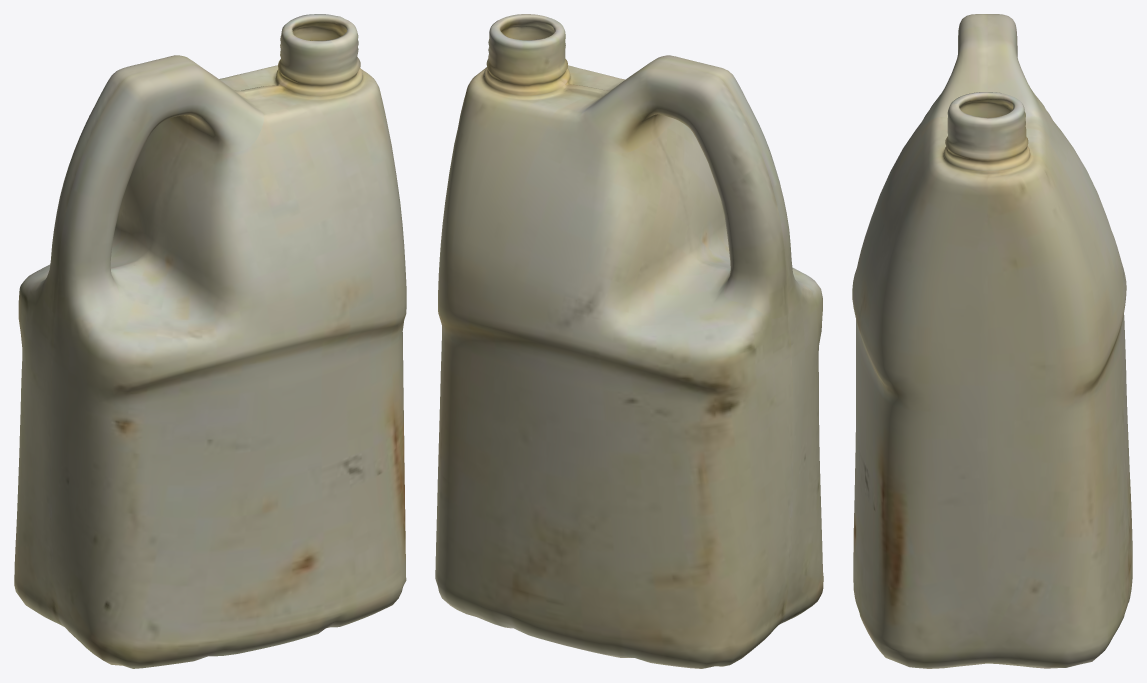
3 renders of one model, left to right at view 1: azimuth 30°, elevation 25°; view 2: azimuth 150°, elevation 25°; view 3: azimuth 270°, elevation 25°, orthographic.
Visible parts, largest first — view 1: plastic_bottle_gallon; view 2: plastic_bottle_gallon; view 3: plastic_bottle_gallon.
Boxes of the visible parts, box(x1,y1,x2,y2) form: plastic_bottle_gallon: box(14, 14, 406, 668); plastic_bottle_gallon: box(435, 14, 823, 668); plastic_bottle_gallon: box(852, 14, 1132, 668).
Size of the model in its own units: 0.1663 by 0.2745 by 0.1264.
Materials: 1 (1 with a texture image).
